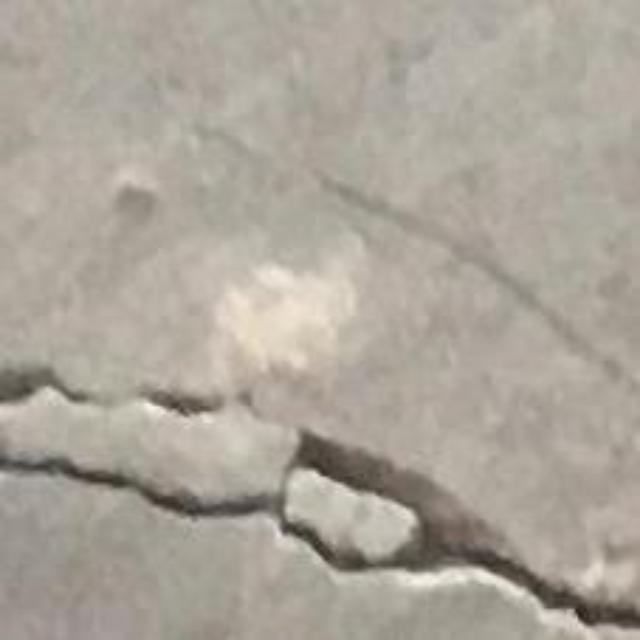crack: (0, 426, 639, 631)
peeling plaster: (215, 263, 358, 372)
